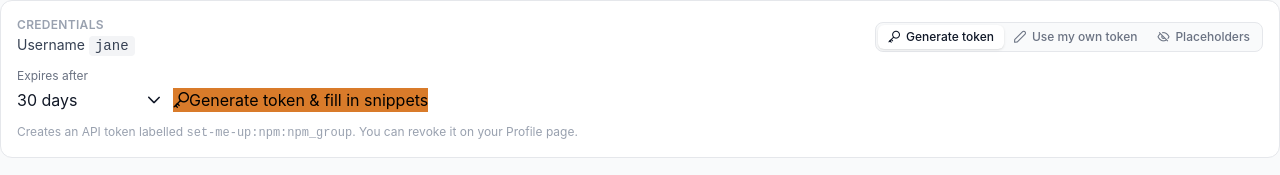
Scenario: TokenCard › reveals the generated token on request
Click the button with test id "generate-token" at (301, 100), box [173,88,428,112]
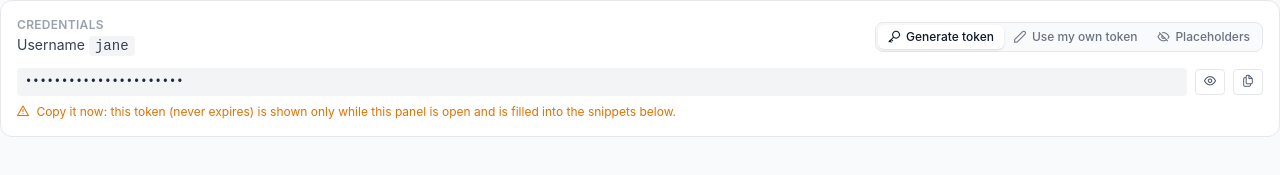
Click the button with test id "reveal-token" at (1210, 82), box [1195,69,1225,95]
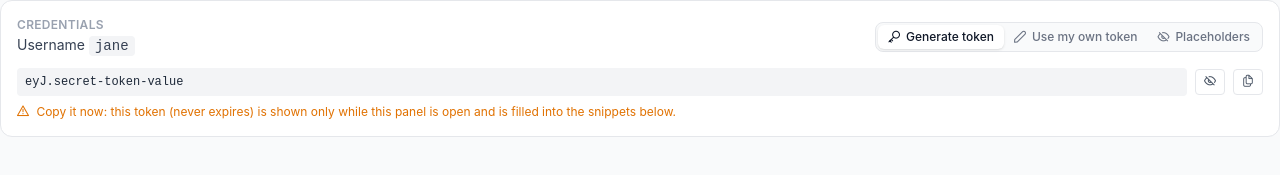
Result: the text with test id "token-value" reads "eyJ.secret-token-value" at [25,75,183,89]
